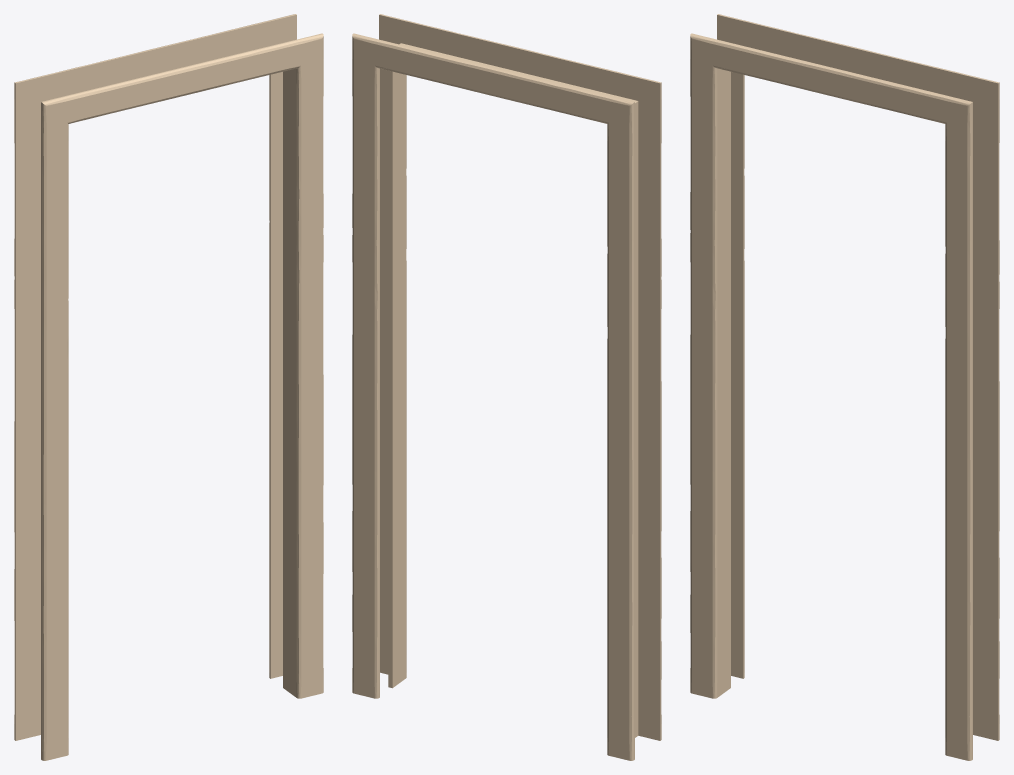
3 views of the same model, side by side, from view 1: azimuth 30°, elevation 25°; view 2: azimuth 150°, elevation 25°; view 3: azimuth 330°, elevation 25° (orthographic).
Parts seen in each view (by area): view 1: 2noZzbDD1CORx_YYROkXCB_h299695; view 2: 2noZzbDD1CORx_YYROkXCB_h299695; view 3: 2noZzbDD1CORx_YYROkXCB_h299695.
Boxes of the visible parts, box(x1,y1,x2,y2) form: 2noZzbDD1CORx_YYROkXCB_h299695: box(14, 14, 323, 760); 2noZzbDD1CORx_YYROkXCB_h299695: box(352, 14, 661, 760); 2noZzbDD1CORx_YYROkXCB_h299695: box(690, 14, 999, 760).
Bounding box in the file's own units: 0.96 × 2.14 × 0.18.
